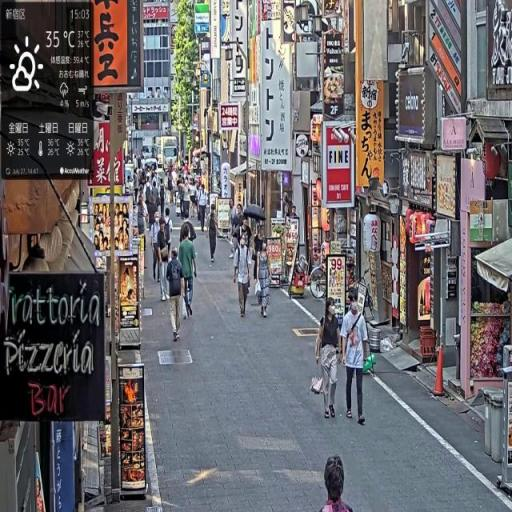person: (341, 293, 370, 428), (316, 298, 344, 421), (320, 454, 356, 512), (179, 224, 200, 321), (167, 243, 187, 342), (234, 229, 253, 319), (256, 237, 272, 319), (209, 207, 220, 266), (199, 185, 208, 235)
